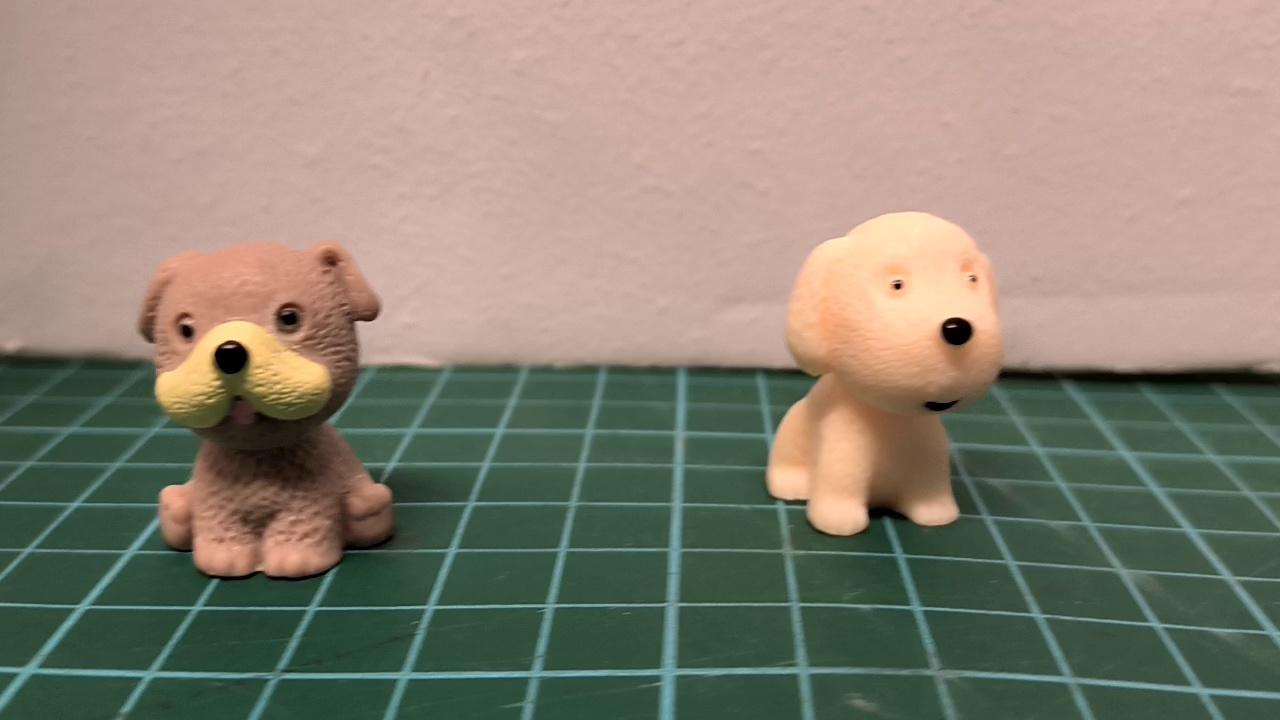pet: (134, 239, 399, 580), (758, 205, 1009, 540)
